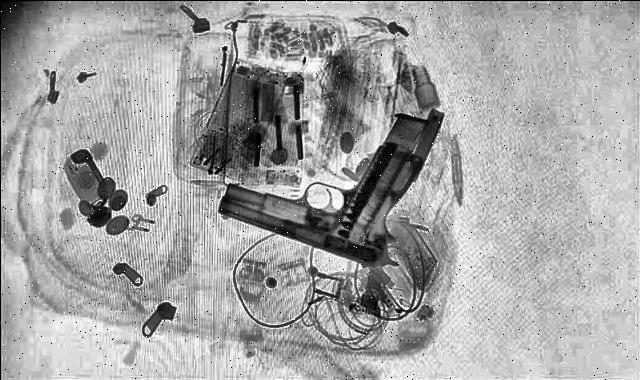Gun: (211, 106, 445, 266)
